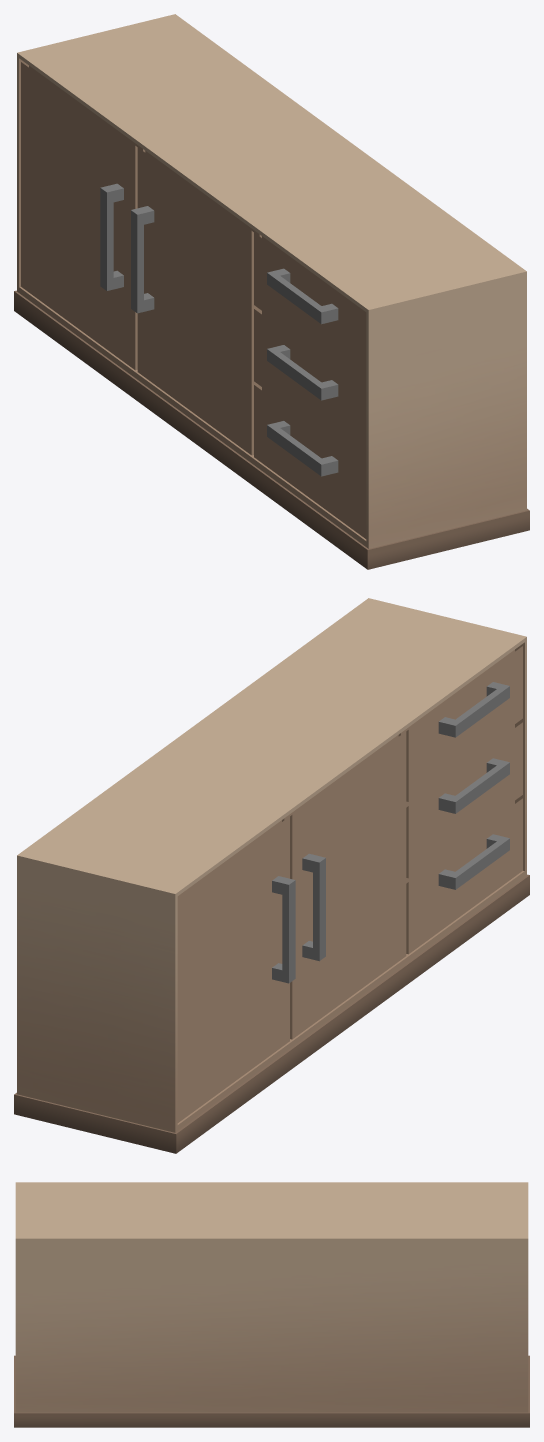
File: Buffet.FBX
3 views of the same model, one above another, from view 1: azimuth 30°, elevation 25°; view 2: azimuth 150°, elevation 25°; view 3: azimuth 270°, elevation 25° (orthographic). The views are drawn at different scales.
Parts seen in each view (by area): view 1: Buffet, Buffet_Door_Right, Buffet_Door_Left, Buffet_Drawer_middle, Buffet_Drawer_bottom, Buffet_Drawer_top; view 2: Buffet, Buffet_Door_Left, Buffet_Door_Right, Buffet_Drawer_middle, Buffet_Drawer_bottom, Buffet_Drawer_top; view 3: Buffet.
Part boxes in pixels (box(x1,y1,x2,y2)): Buffet: box(14, 14, 529, 569); Buffet_Door_Right: box(131, 147, 261, 455); Buffet_Door_Left: box(21, 62, 145, 370); Buffet_Drawer_middle: box(254, 309, 366, 462); Buffet_Drawer_bottom: box(254, 385, 366, 538); Buffet_Drawer_top: box(254, 232, 366, 386); Buffet: box(14, 598, 529, 1153); Buffet_Door_Left: box(177, 816, 295, 1122); Buffet_Door_Right: box(282, 731, 406, 1039); Buffet_Drawer_middle: box(406, 722, 522, 878); Buffet_Drawer_bottom: box(406, 798, 522, 954); Buffet_Drawer_top: box(398, 646, 522, 801); Buffet: box(14, 1182, 529, 1427).
Bounding box in the file's own units: 18.31 × 25.79 × 63.98.
